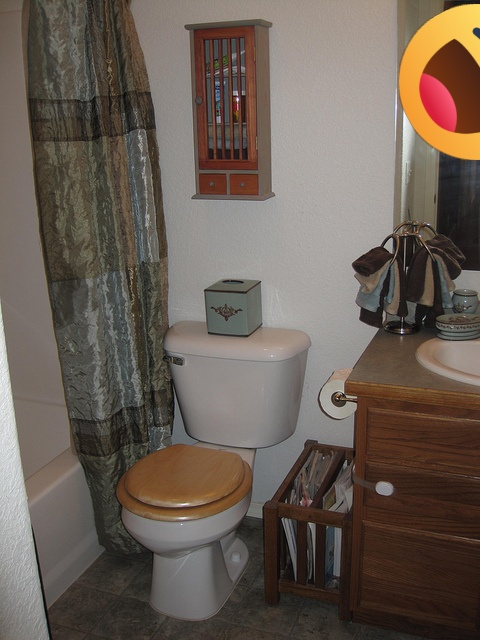haha: (399, 4, 480, 160)
